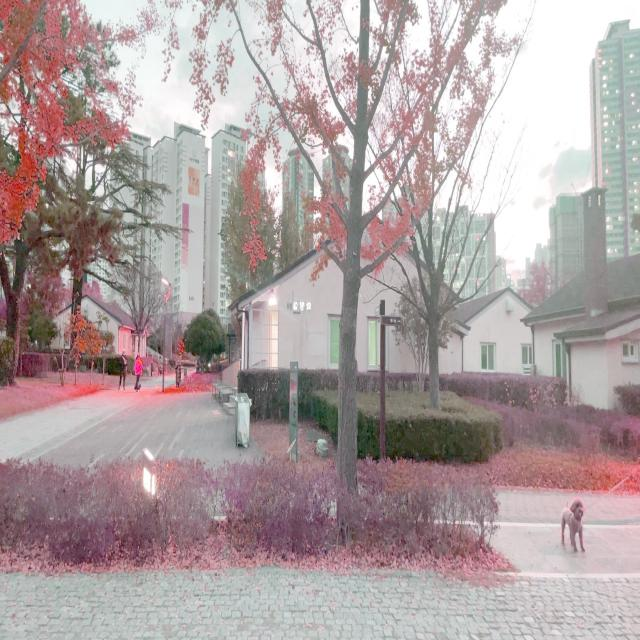Dog: (561, 497, 585, 555)
Leashed_Dog: (138, 368, 164, 394), (124, 369, 141, 392)
